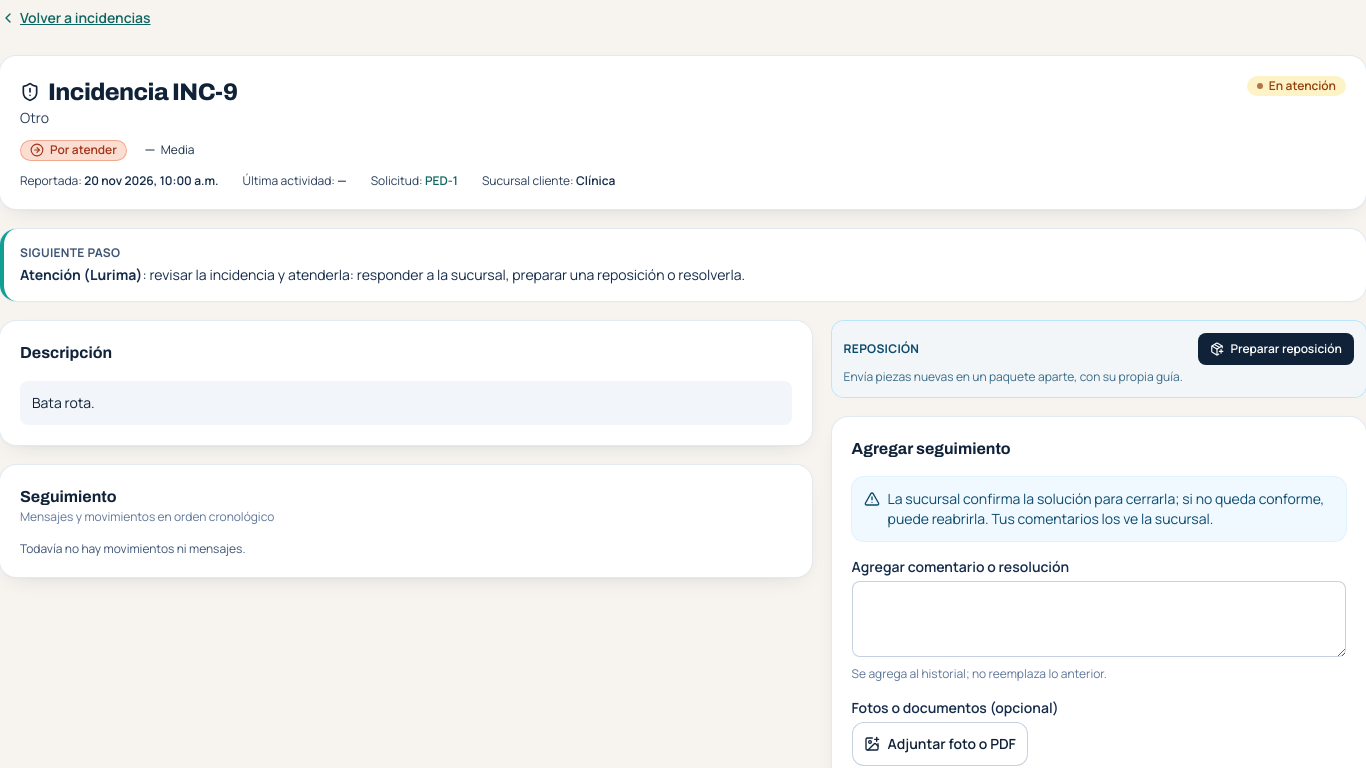
acciones de reposición por perfil (surtido.operar) y D-6 › H-1: el selector solo ofrece artículos con máximo, llega hasta él y muestra el rechazo del backend
Click the button "Preparar reposición": (1276,348) left=1198, top=332, right=1354, bottom=364
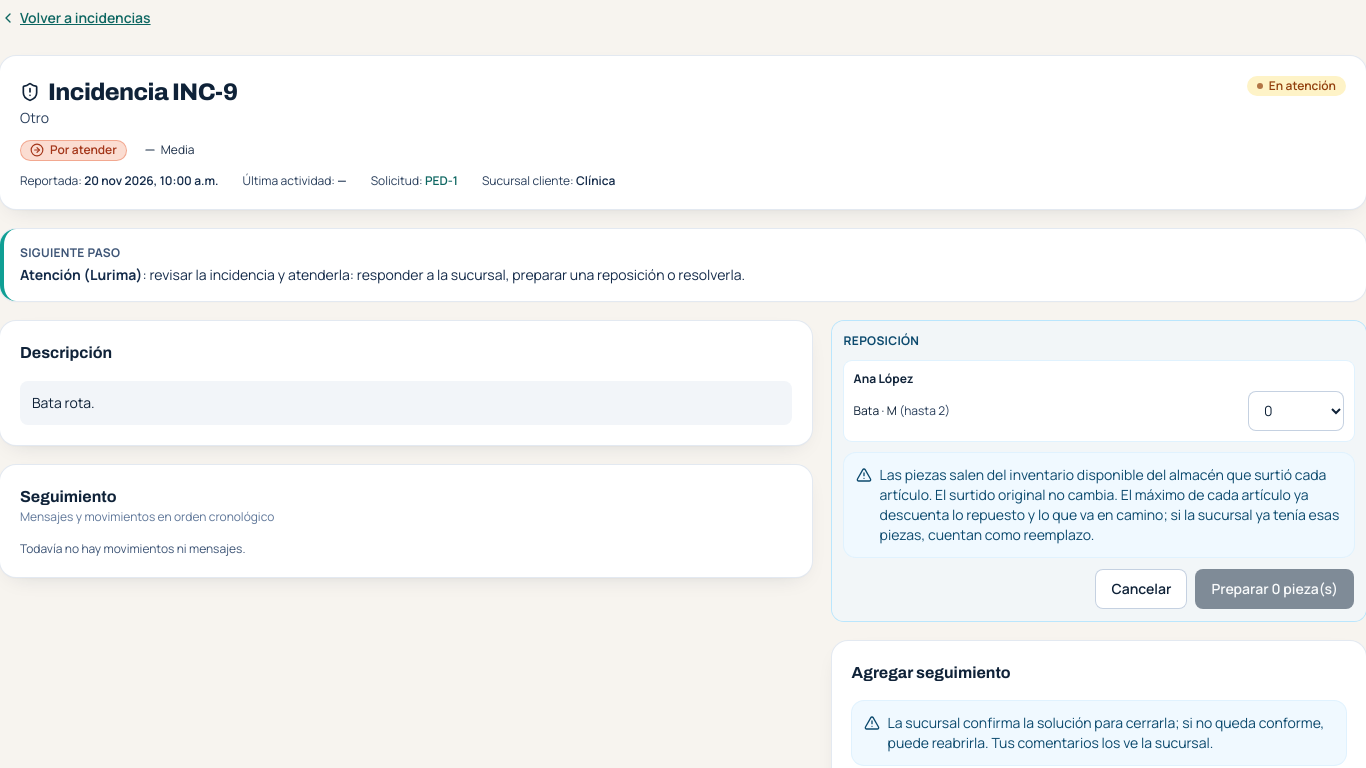
Now the text "(hasta 2)" is shown, box left=899, top=402, right=950, bottom=418
Select "2" in the dropdown named "Piezas de Bata (M) para Ana López": (1296,410) left=1248, top=390, right=1344, bottom=430
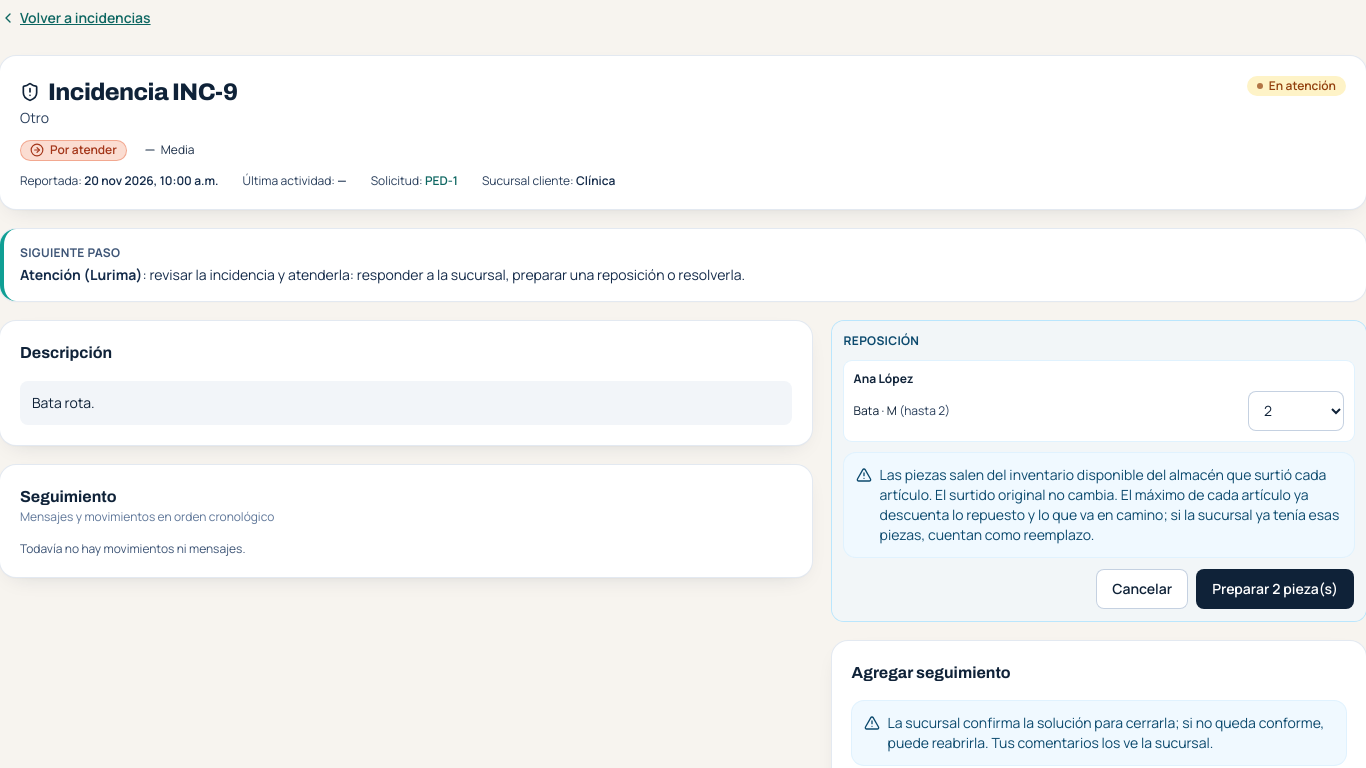
Click the button "Preparar 2 pieza(s)": (1275,588) left=1196, top=568, right=1354, bottom=608
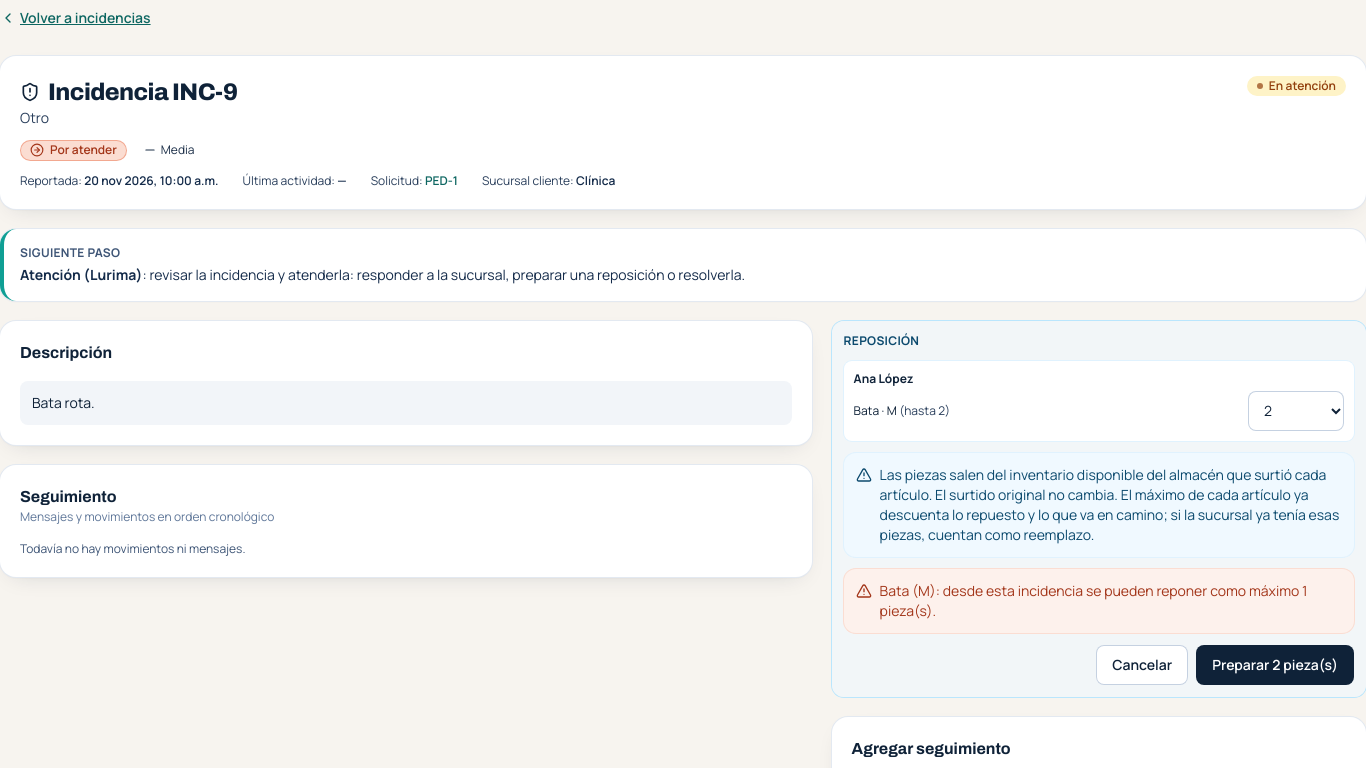
Now the message shows "como máximo 1 pieza", box left=880, top=580, right=1308, bottom=620
